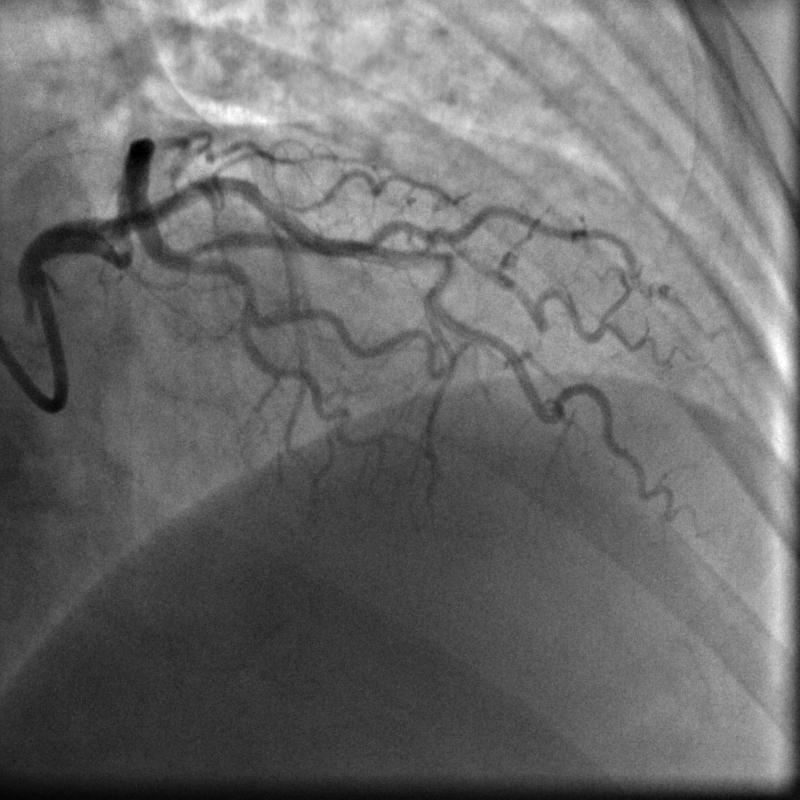Stenosis: (107, 209, 137, 262)
